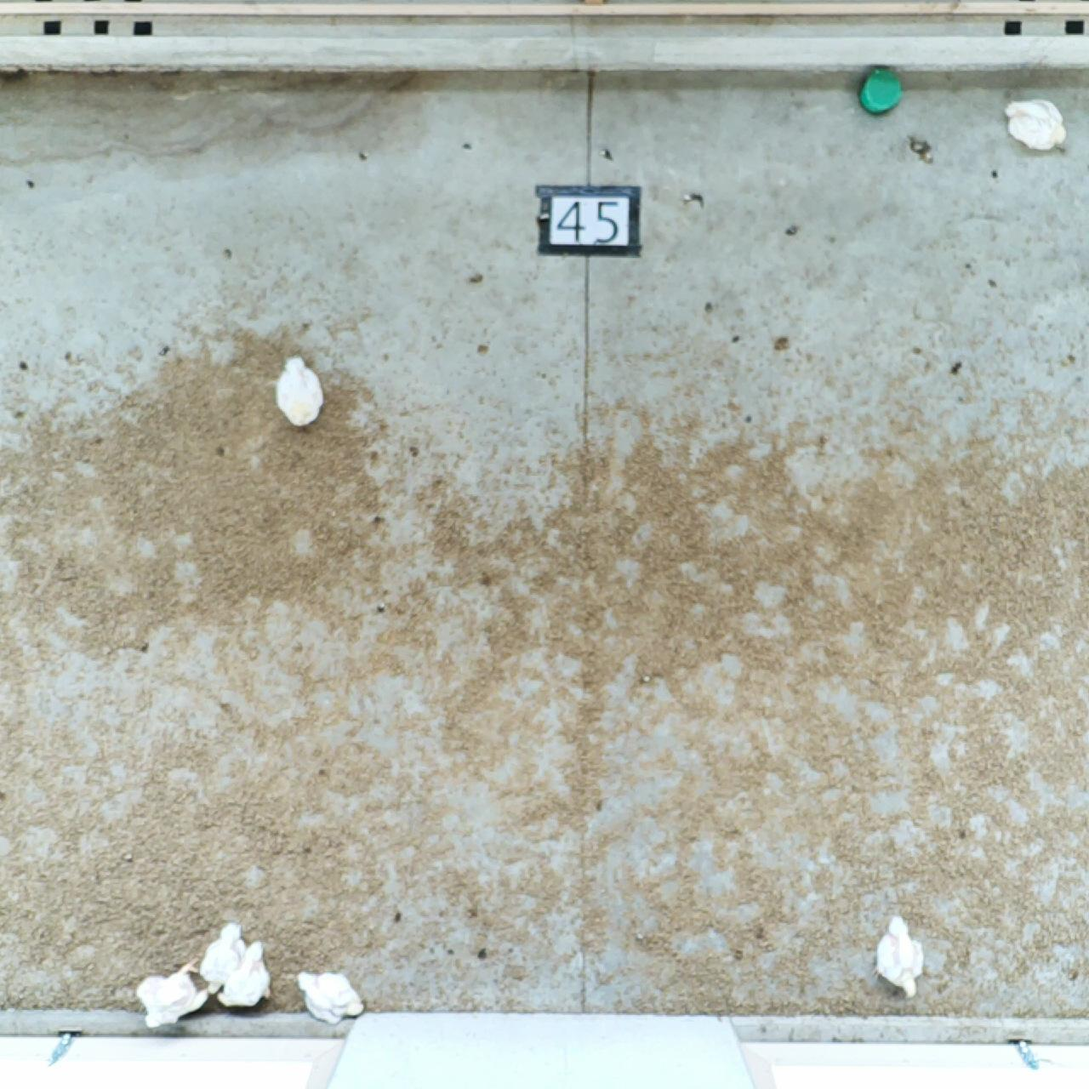chicken: (138, 958, 207, 1027), (271, 354, 330, 432), (1001, 92, 1071, 156), (875, 917, 931, 995), (296, 967, 366, 1025), (199, 923, 252, 995), (219, 943, 273, 1010)
